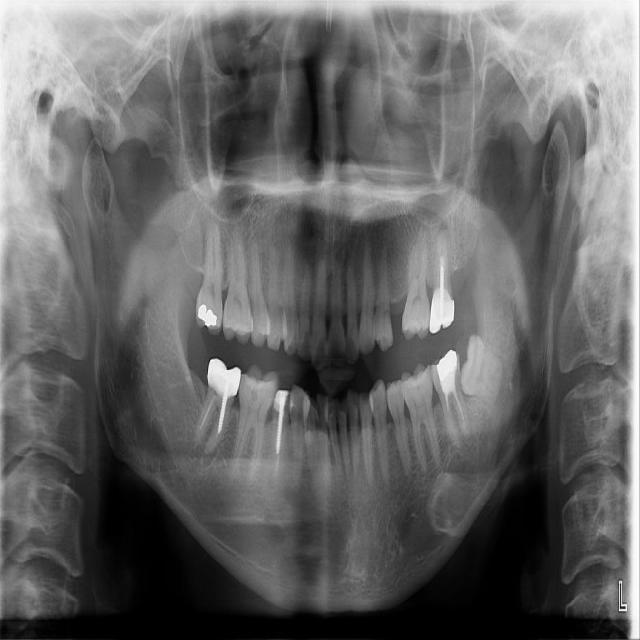Crown: (208, 359, 242, 401), (429, 289, 455, 335)
Filling: (430, 350, 461, 393), (273, 389, 293, 421), (195, 302, 220, 327)
Missing teeth: (391, 289, 408, 345)
Periapical lesion: (202, 214, 228, 262), (190, 439, 223, 472), (437, 222, 451, 240), (462, 440, 473, 450), (451, 444, 462, 451), (464, 436, 471, 441)
Root Canal Treatment: (199, 395, 217, 430), (452, 390, 464, 419), (445, 391, 449, 412), (276, 455, 280, 473), (588, 551, 594, 561), (440, 255, 444, 266)
impacted tooth: (461, 332, 508, 398)
